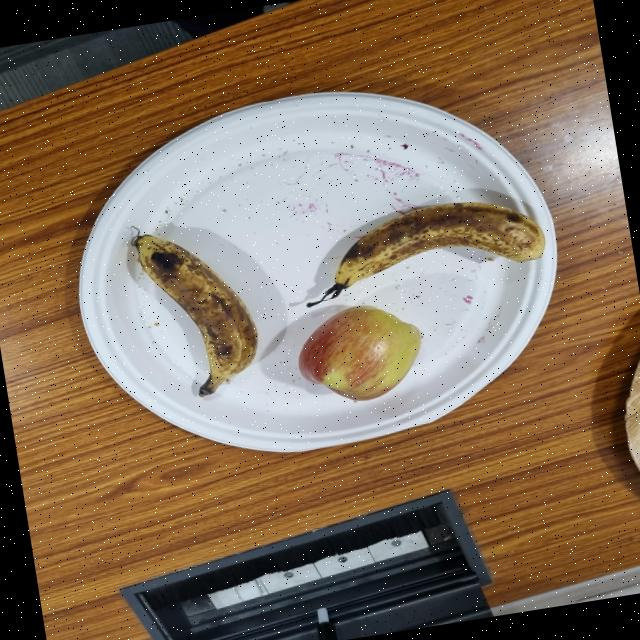apple: (329, 368, 459, 463)
banana: (352, 231, 571, 337), (464, 375, 582, 547)
